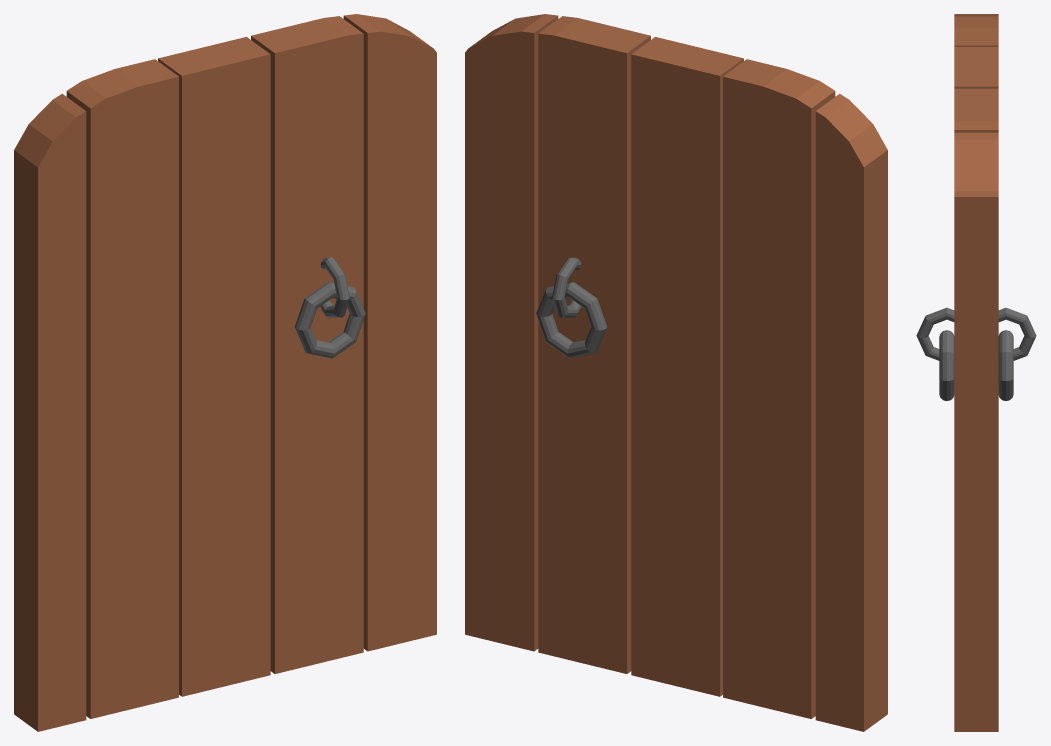
File: door.obj
3 renders of one model, left to right at view 1: azimuth 30°, elevation 25°; view 2: azimuth 150°, elevation 25°; view 3: azimuth 270°, elevation 25°, orthographic. The views are drawn at different scales.
Visible parts, largest first — view 1: door; view 2: door; view 3: door.
Part boxes in pixels (left/top/right/bottom): door: left=14, top=14, right=436, bottom=731; door: left=465, top=14, right=887, bottom=731; door: left=916, top=14, right=1036, bottom=731.
Size of the model in its own units: 0.6698 by 0.9966 by 0.1901.
